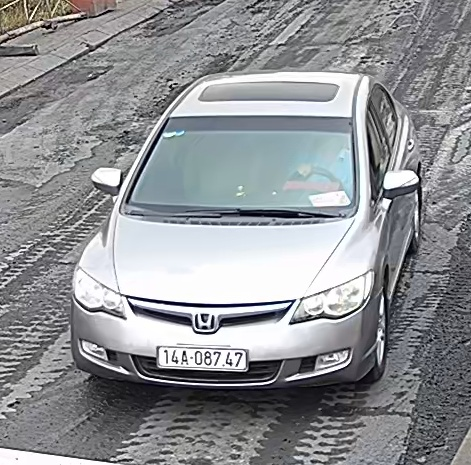vehicle plate: (152, 343, 252, 374)
